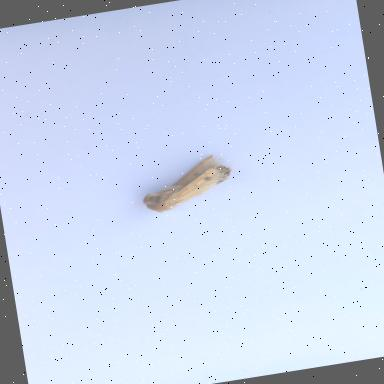abw: (130, 147, 243, 224)
